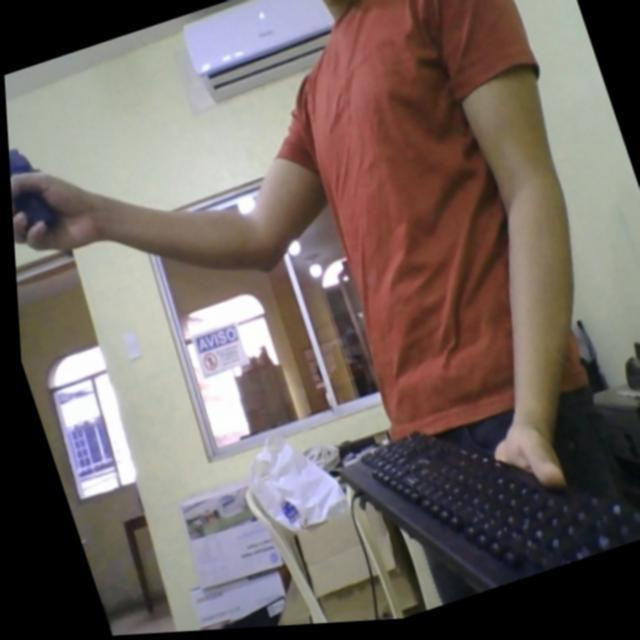weapon: (6, 134, 59, 250)
